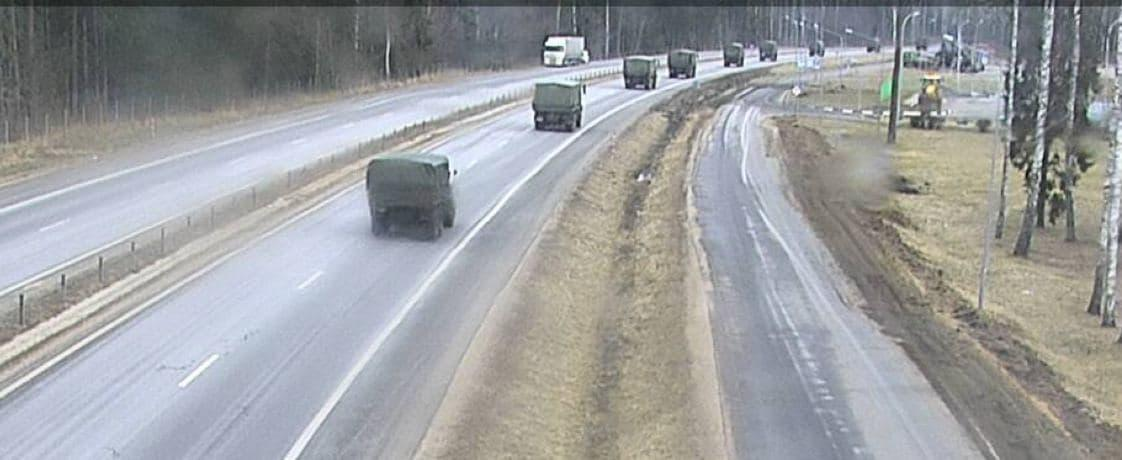truck: (363, 152, 458, 244), (530, 79, 582, 137), (626, 55, 657, 95), (669, 48, 698, 76), (756, 41, 780, 66), (721, 44, 743, 71), (863, 36, 884, 54), (810, 38, 828, 56)
